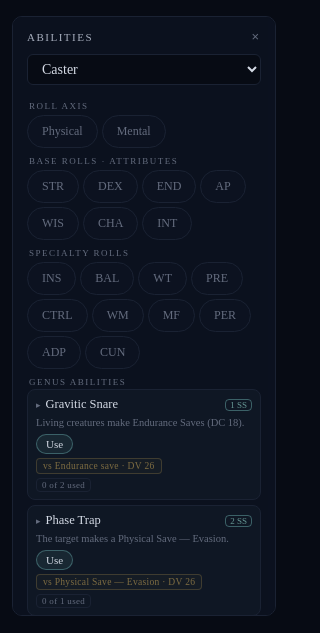
usage limits › clears one ability's tally on the Curator's word, and leaves the rest alone
Click the 1st button "Use": {"x": 55, "y": 444} [36,434,73,454]
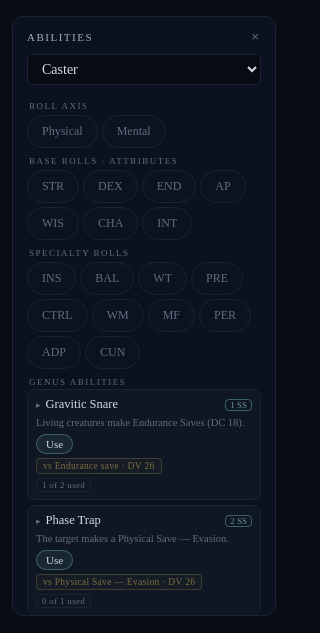
Click the 2nd button "Use": {"x": 55, "y": 560} [36,550,73,570]
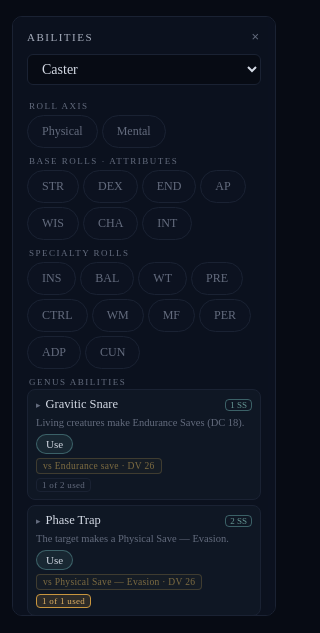
Click the button "▸ Phase Trap": {"x": 128, "y": 521} [36,513,219,528]
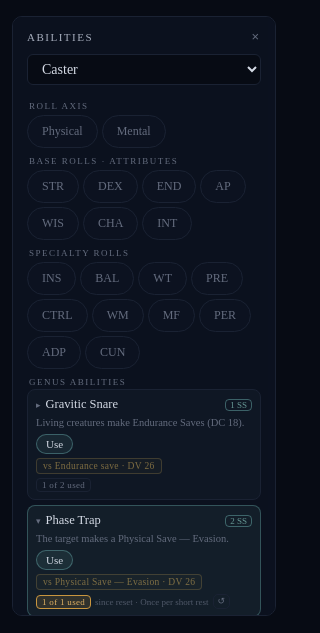
Click the button "↺": {"x": 221, "y": 602} [212,594,230,609]
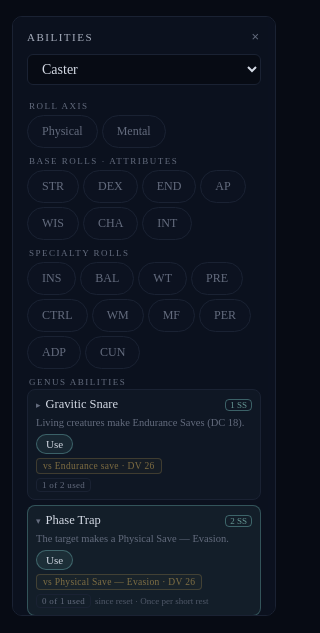
Check: the element showing "1 of 2 used" is shown, box [36,478,91,492]
Check: the element showing "0 of 1 used since reset · Once per short rest" is shown, box [36,594,208,608]
